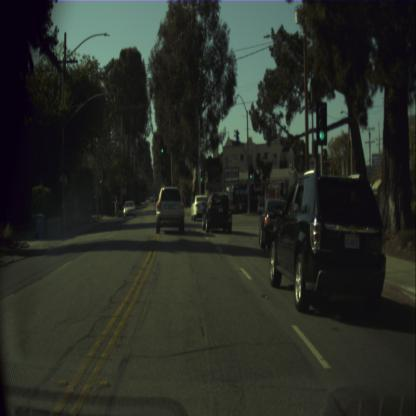Green: (316, 101, 326, 144), (160, 140, 164, 154), (249, 164, 252, 178), (200, 170, 202, 182), (99, 173, 101, 184)
